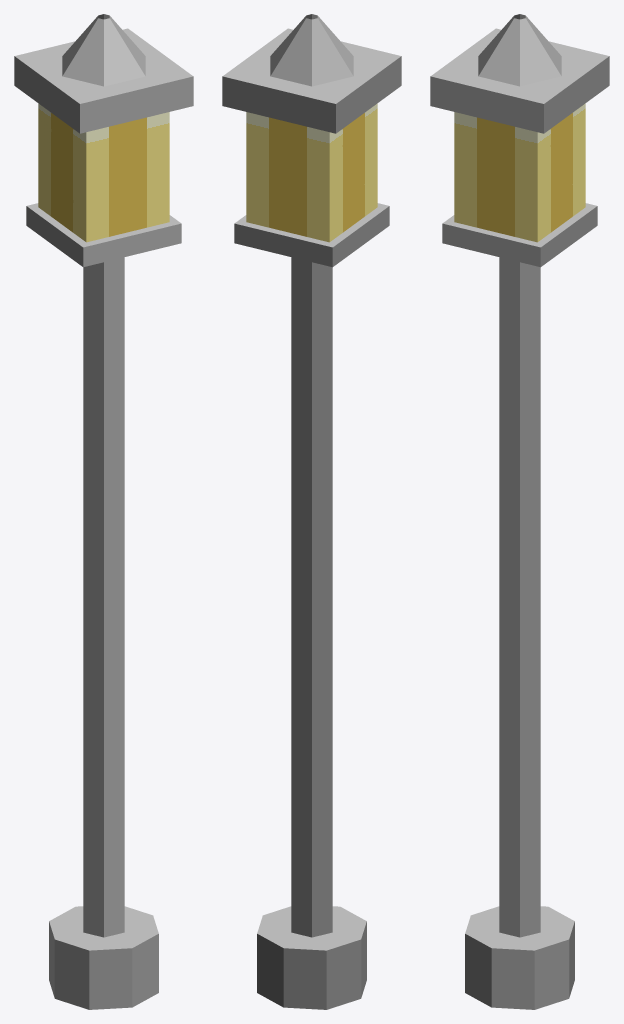
Rendered from lamppost.obj.
3 renders of one model, left to right at view 1: azimuth 30°, elevation 25°; view 2: azimuth 150°, elevation 25°; view 3: azimuth 330°, elevation 25°, orthographic.
Bounding box in the file's own units: 6 × 49 × 6.
